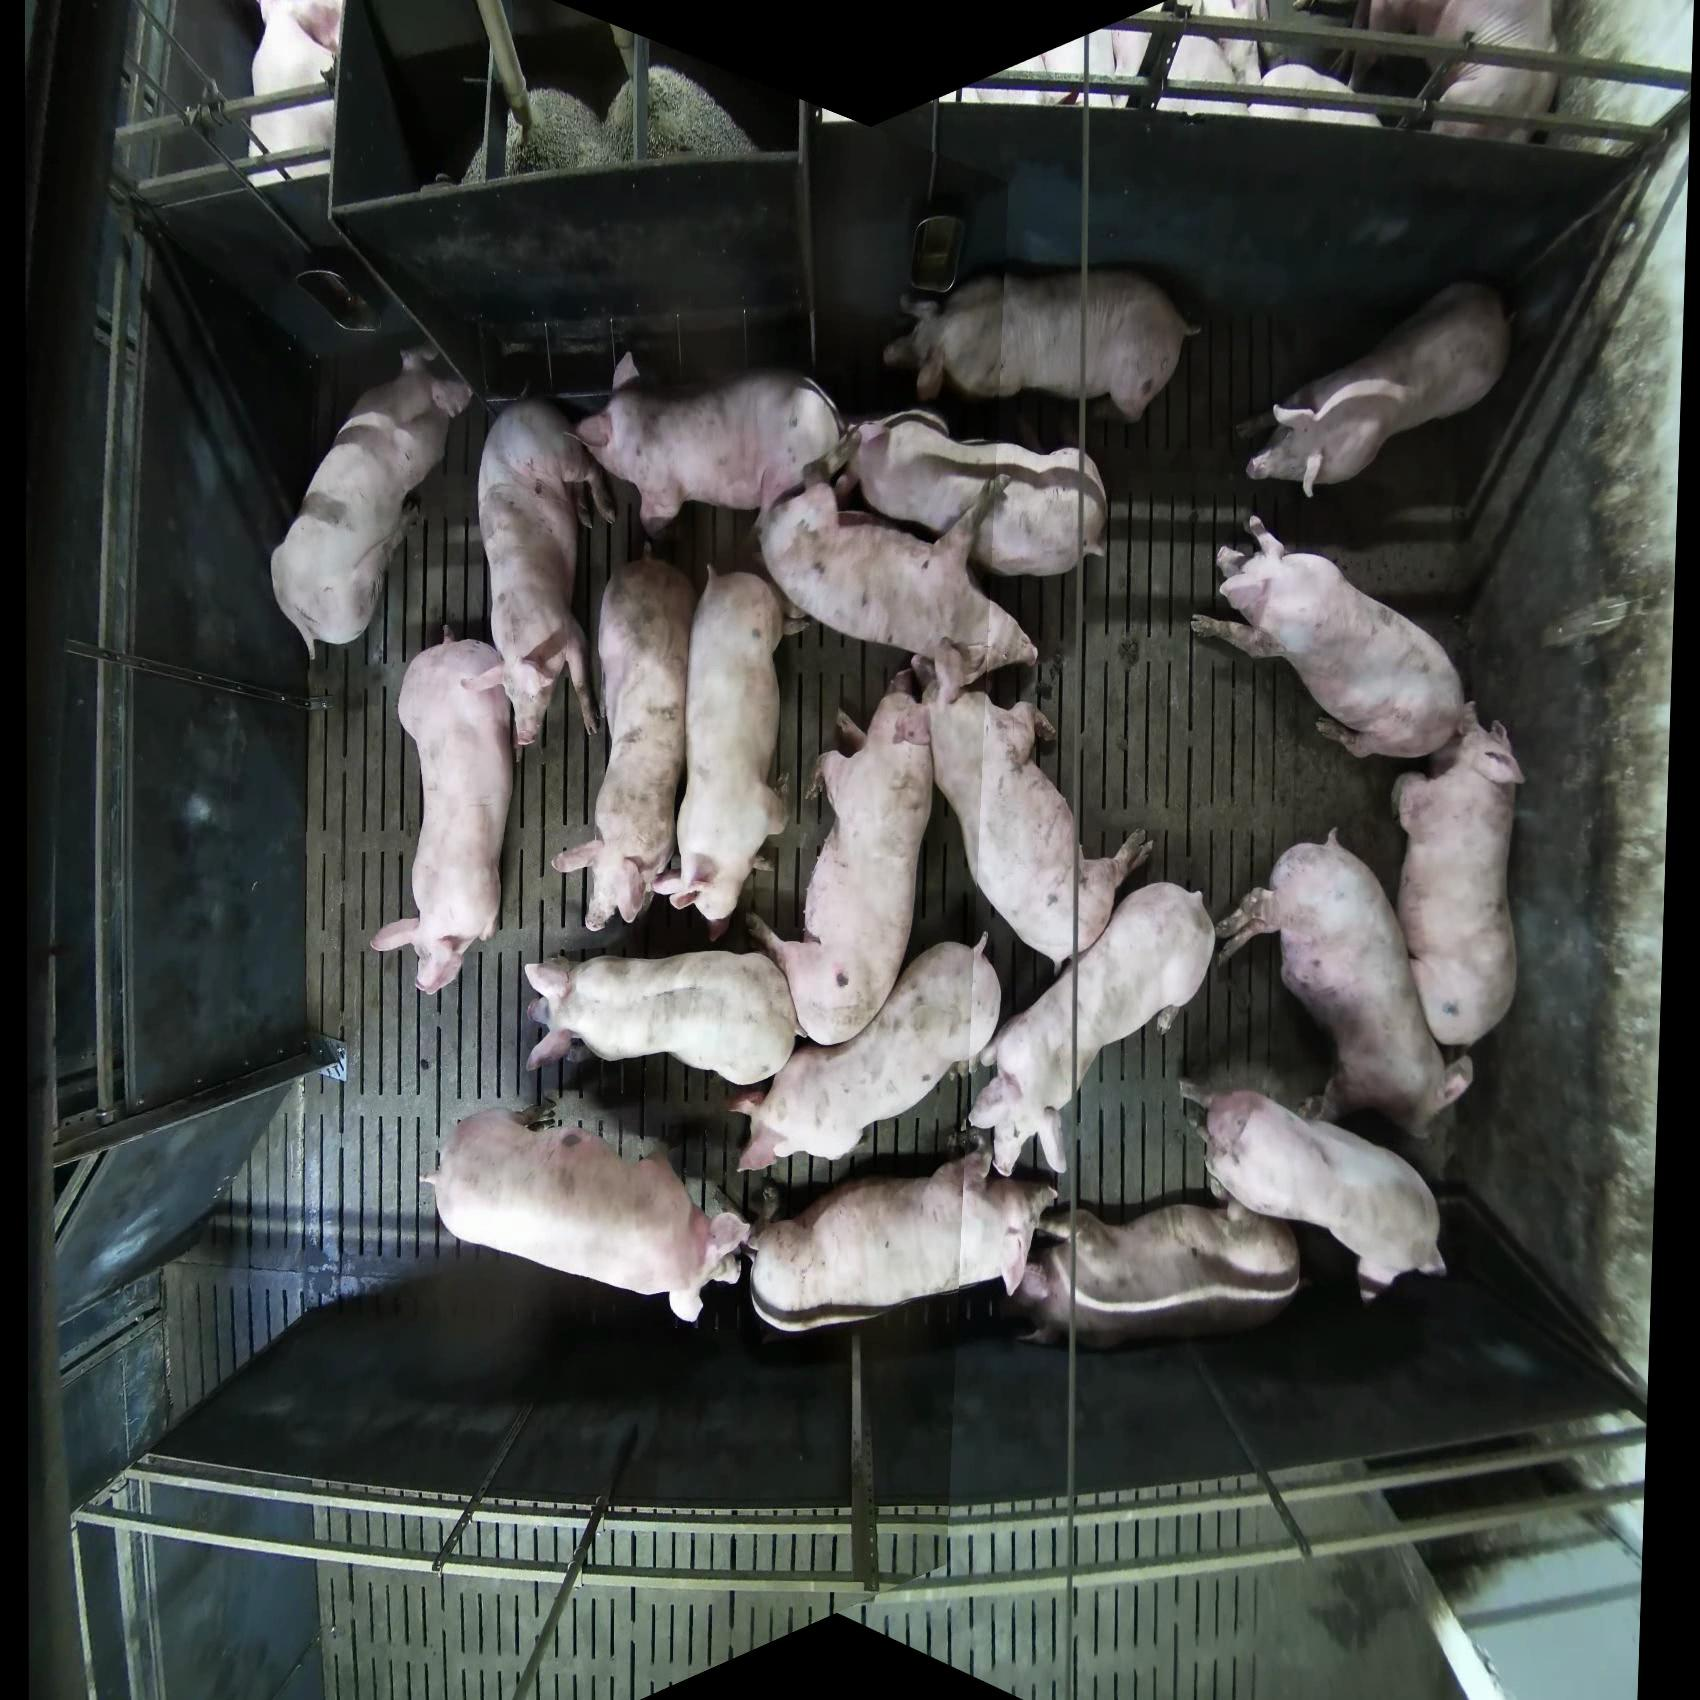pig: (1214, 827, 1474, 1140), (914, 641, 1155, 968), (967, 880, 1217, 1178), (419, 1105, 752, 1326), (746, 677, 937, 1048), (1189, 512, 1473, 761), (725, 931, 1003, 1175), (269, 346, 473, 663), (757, 476, 1041, 694), (746, 1146, 1059, 1336), (1245, 279, 1512, 500), (1194, 1087, 1449, 1305), (551, 553, 696, 933), (369, 635, 518, 996), (574, 350, 852, 537), (652, 565, 794, 926), (475, 395, 618, 750), (883, 268, 1202, 425), (1392, 710, 1526, 1049), (1004, 1197, 1301, 1350), (845, 409, 1110, 579), (522, 948, 800, 1087), (461, 64, 761, 185), (1361, 2, 1566, 145), (246, 2, 346, 185), (1059, 26, 1252, 117), (601, 64, 761, 167), (459, 87, 613, 182), (1250, 61, 1386, 128)
